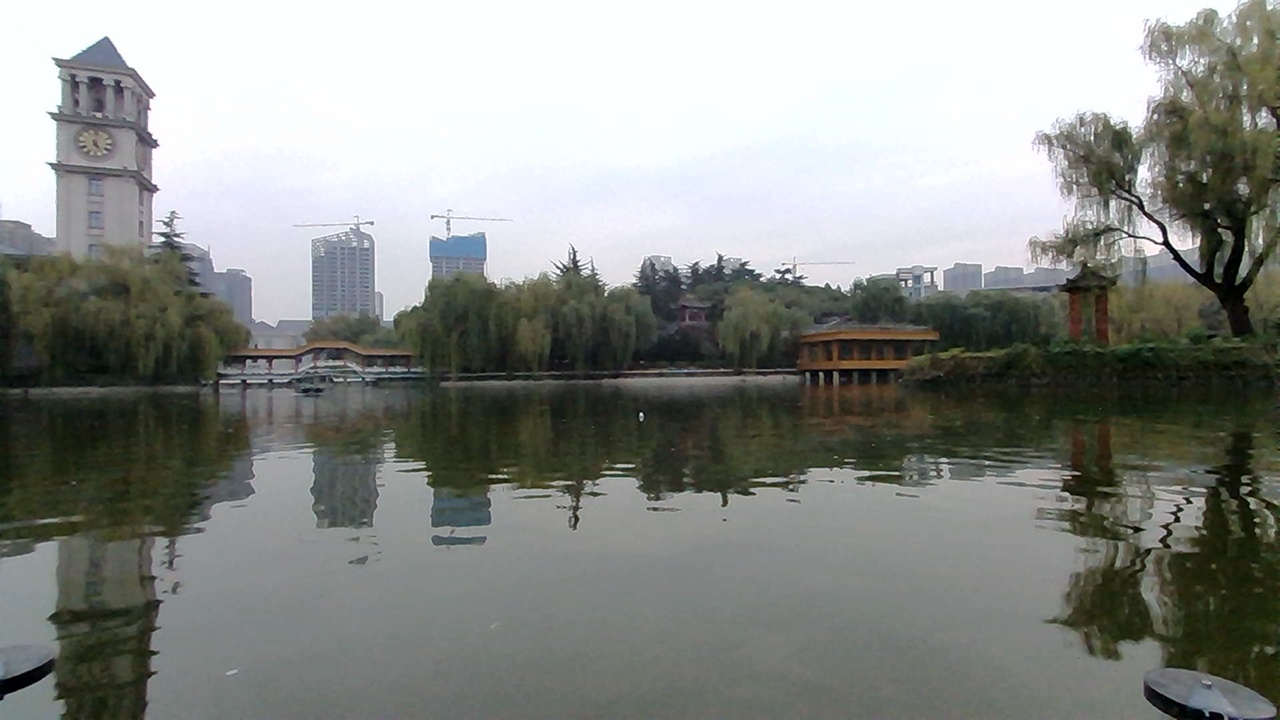bottle: (624, 402, 658, 427)
